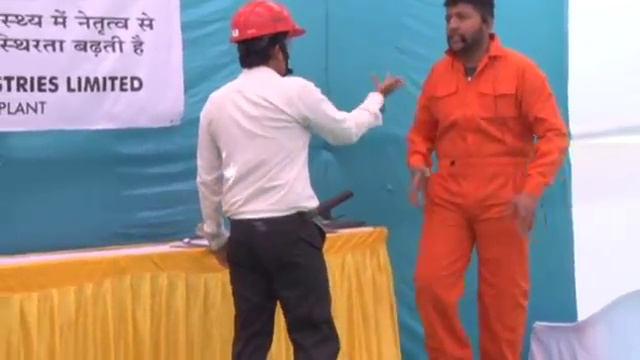helmet: (225, 1, 307, 43)
helmet_off: (441, 1, 496, 55)
helmet_on: (223, 1, 308, 76)
person: (195, 1, 405, 360), (407, 1, 570, 360)
